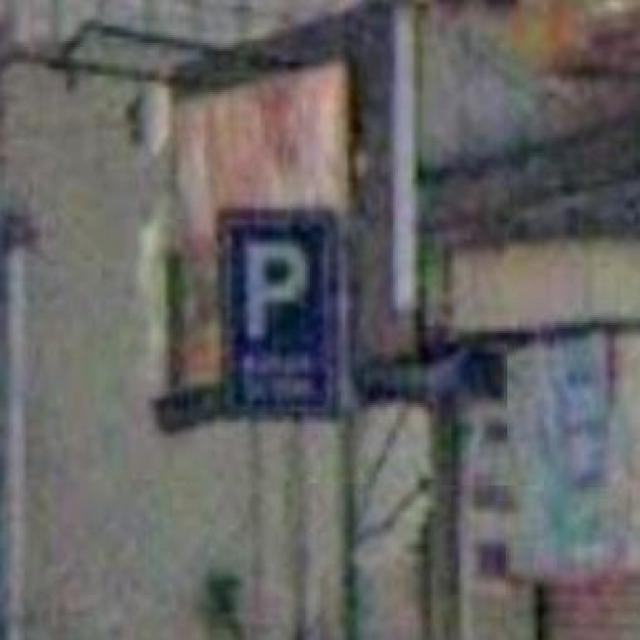traffic sign: (216, 204, 342, 421)
